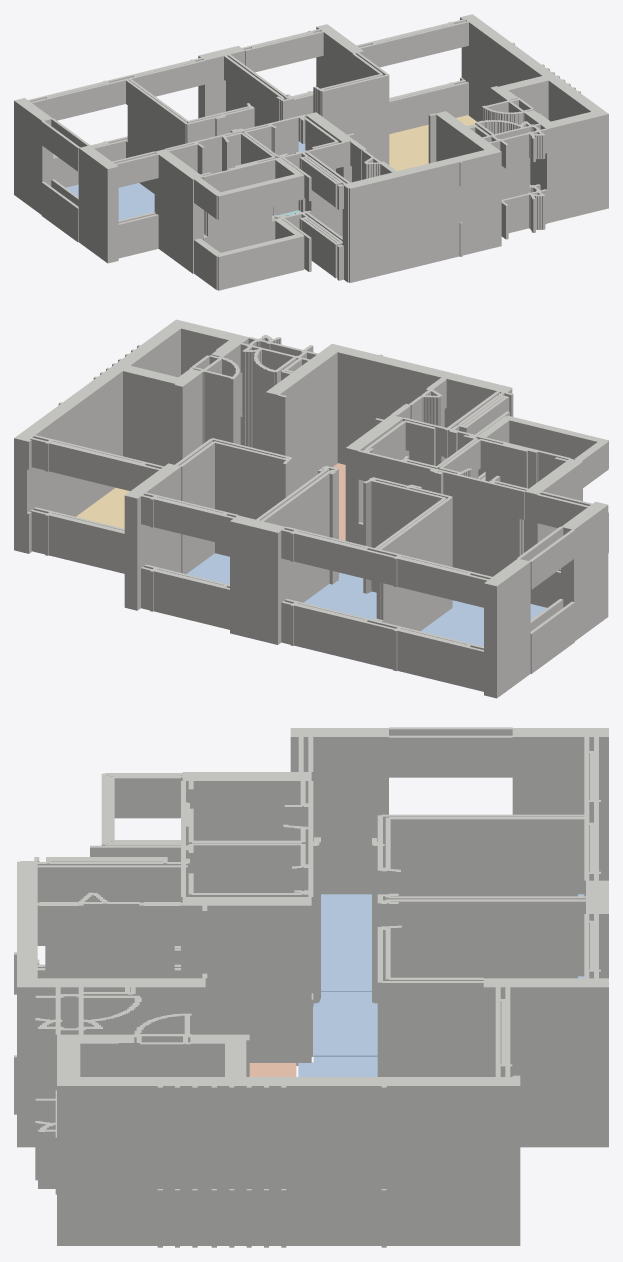
The picture shows the model from 3 angles, top to bottom: view 1: azimuth 30°, elevation 25°; view 2: azimuth 150°, elevation 25°; view 3: azimuth 270°, elevation 25°; orthographic projection. The views are drawn at different scales.
Visible parts, largest first — view 1: walls, room:living:8, room:bedroom:0; view 2: walls, room:bedroom:1, room:bedroom:0, room:living:8, room:bedroom:2, room:kitchen:7; view 3: walls, room:bedroom:0, room:bedroom:1, room:bedroom:2.
Part boxes in pixels (left/top/right/bottom): walls: left=14, top=14, right=608, bottom=290; room:living:8: left=389, top=115, right=476, bottom=171; room:bedroom:0: left=66, top=183, right=154, bottom=220; walls: left=14, top=319, right=608, bottom=698; room:bedroom:1: left=303, top=573, right=376, bottom=619; room:bedroom:0: left=421, top=600, right=546, bottom=646; room:living:8: left=76, top=487, right=129, bottom=528; room:bedroom:2: left=186, top=553, right=339, bottom=584; room:kitchen:7: left=333, top=463, right=345, bottom=540; walls: left=14, top=727, right=608, bottom=1247; room:bedroom:0: left=321, top=894, right=584, bottom=991; room:bedroom:1: left=313, top=976, right=584, bottom=1056; room:bedroom:2: left=298, top=1056, right=377, bottom=1076.
Bounding box in the file's own units: 13.51 × 2.8 × 9.43.
